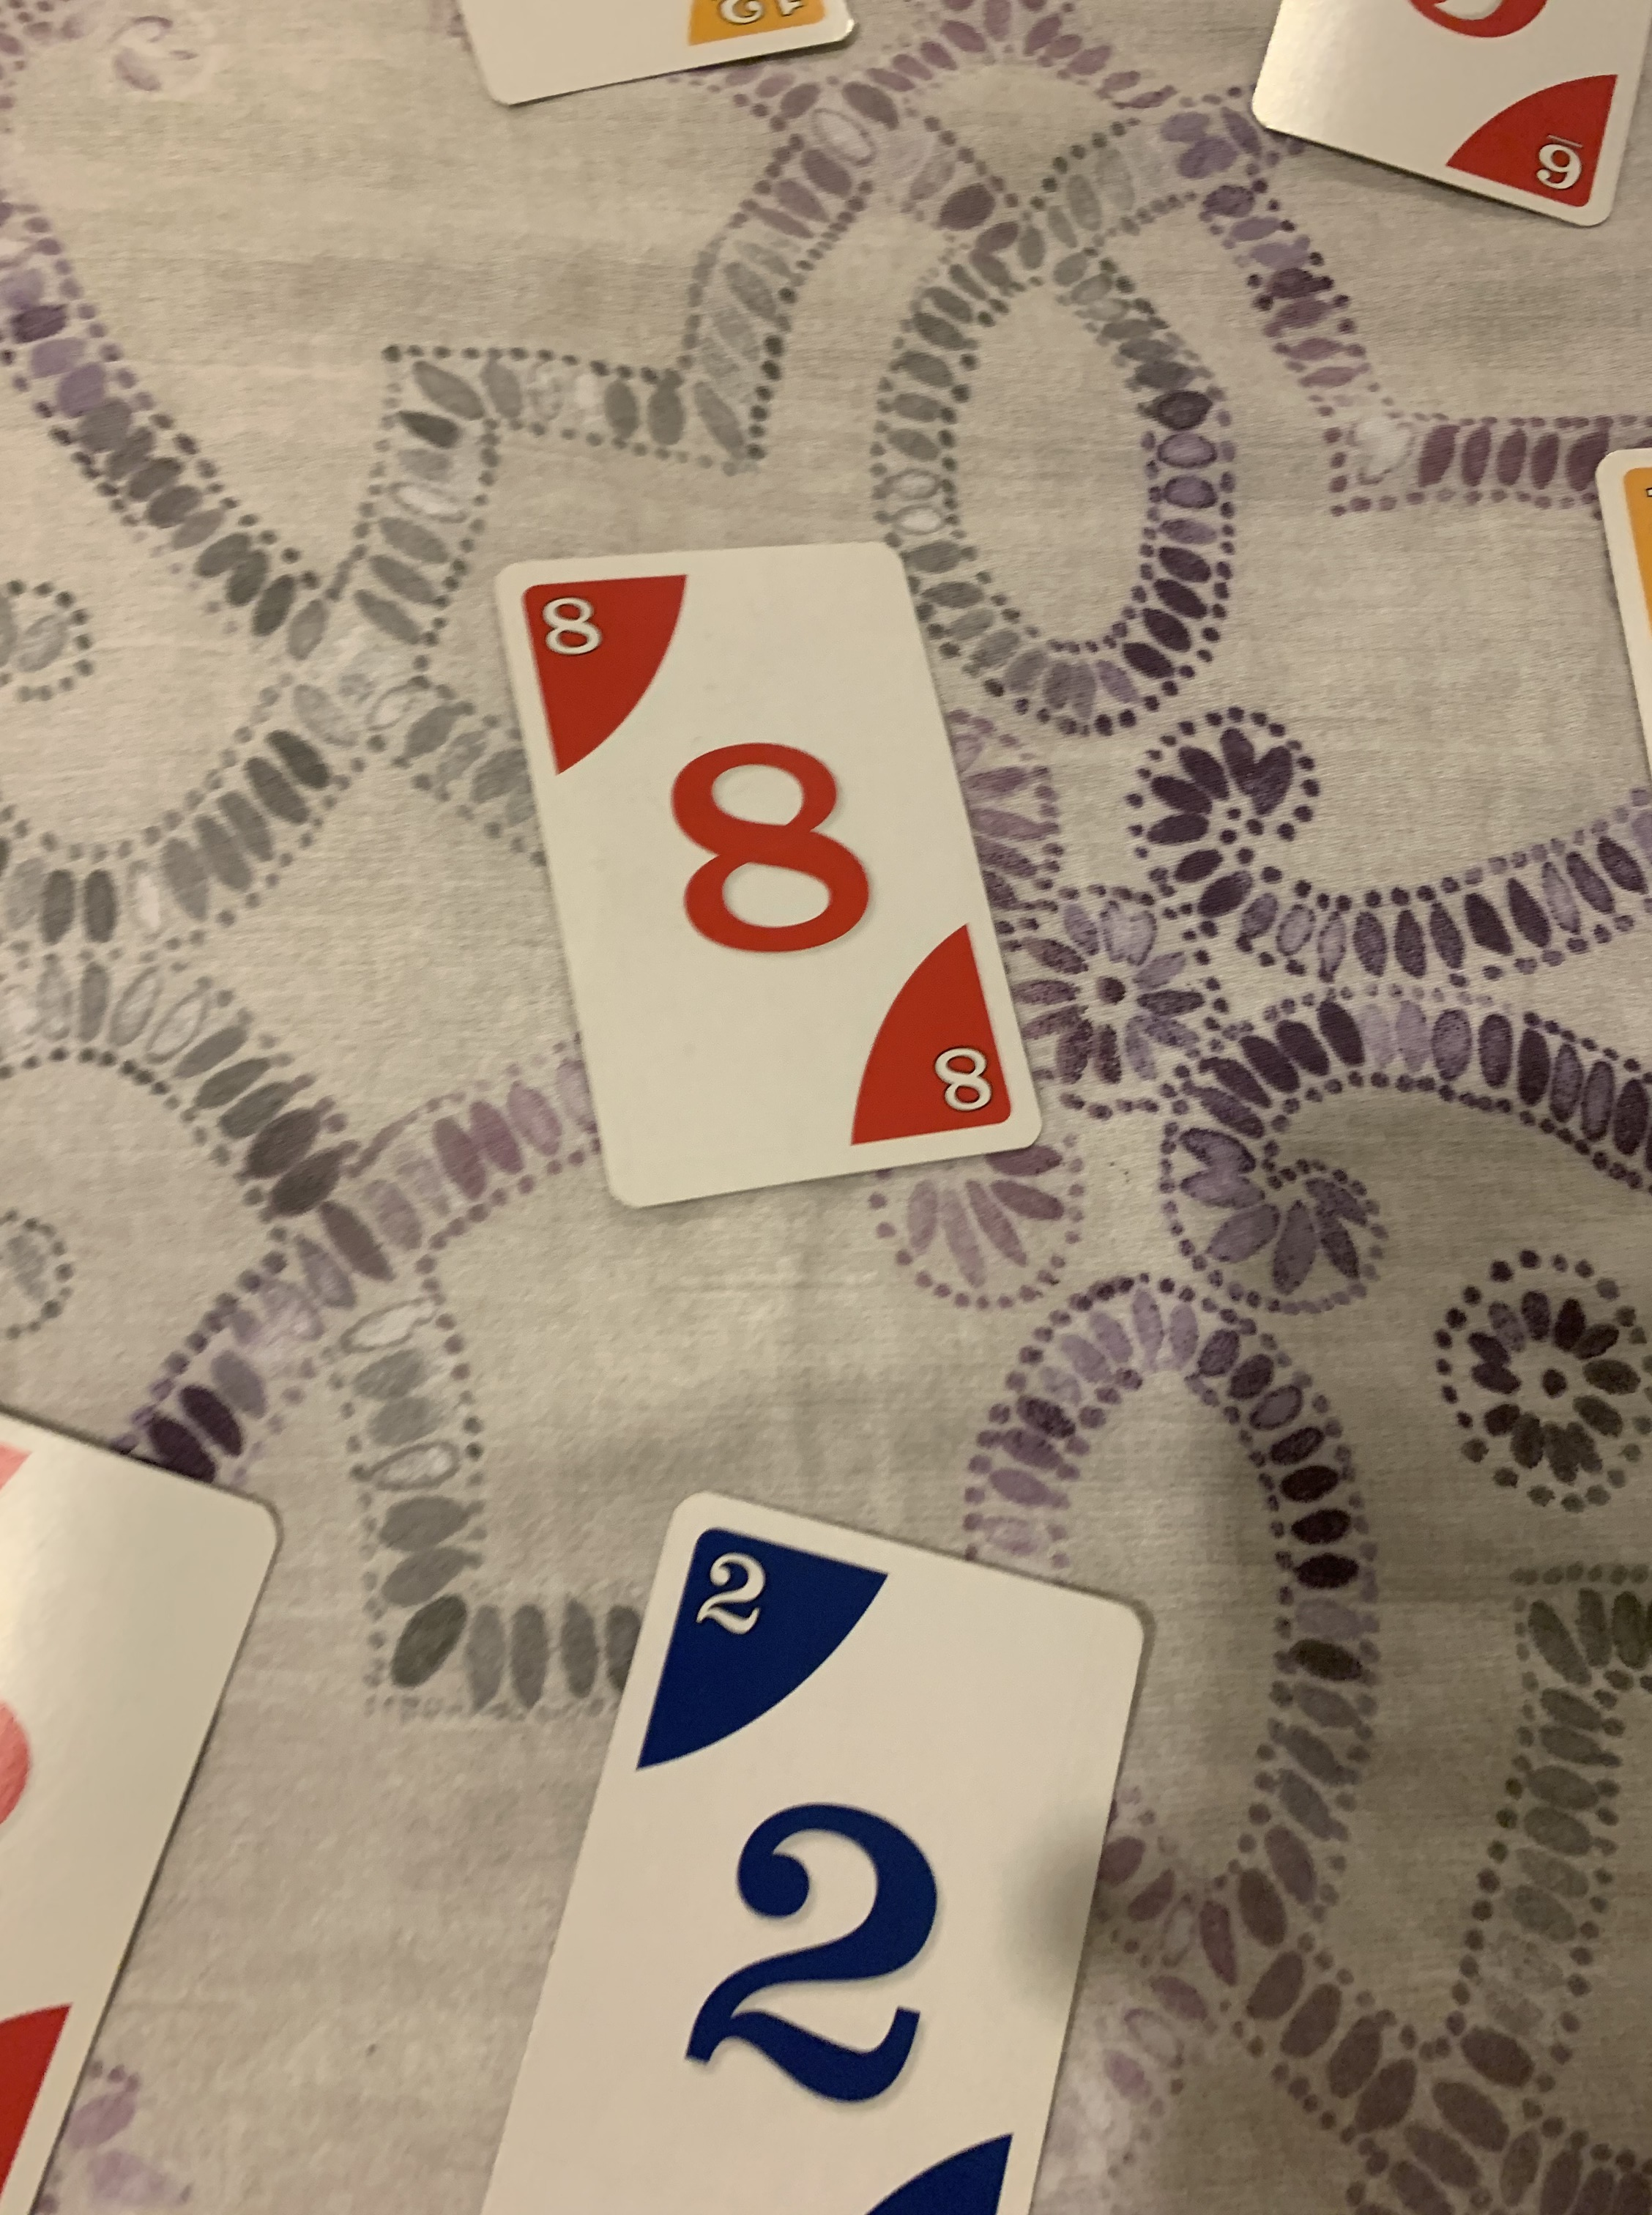eight: (482, 529, 1046, 1212)
two: (474, 1474, 1157, 2215)
